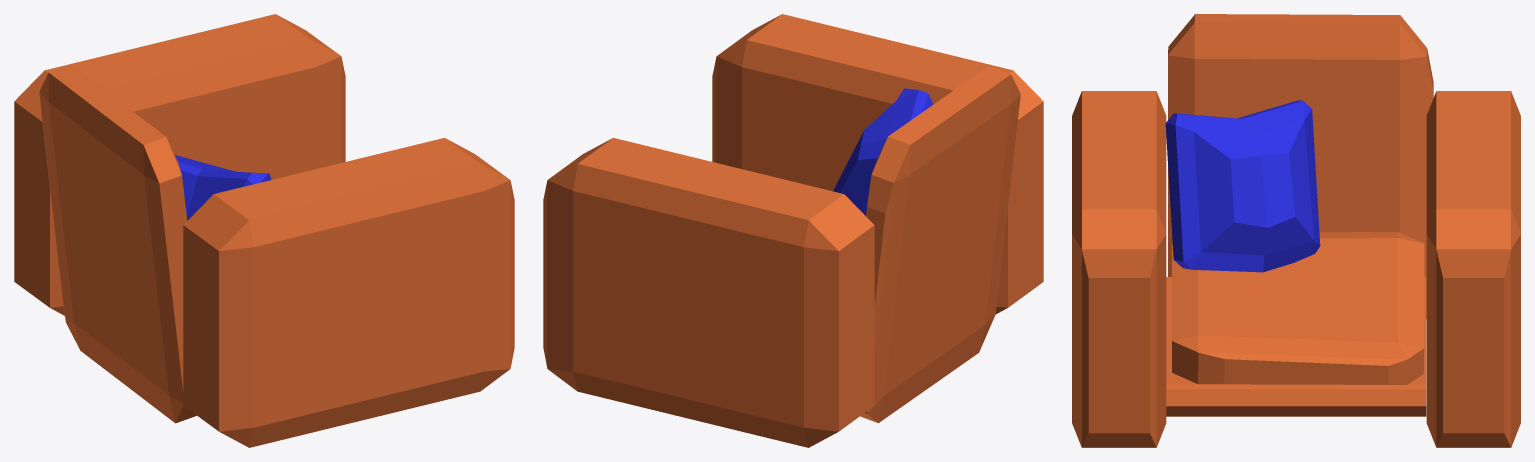
Rendered from armchair(1).fbx.
3 renders of one model, left to right at view 1: azimuth 30°, elevation 25°; view 2: azimuth 150°, elevation 25°; view 3: azimuth 270°, elevation 25°, orthographic. The views are drawn at different scales.
Visible parts, largest first — view 1: armchair, pillow2; view 2: armchair, pillow2; view 3: armchair, pillow2.
Boxes of the visible parts, x1,y1,x2,y2 form: armchair: (14,14,514,447); pillow2: (175,155,271,220); armchair: (543,14,1043,447); pillow2: (833,88,933,215); armchair: (1072,14,1520,447); pillow2: (1165,100,1320,272).
Size of the model in its own units: 294 by 254 by 341.
